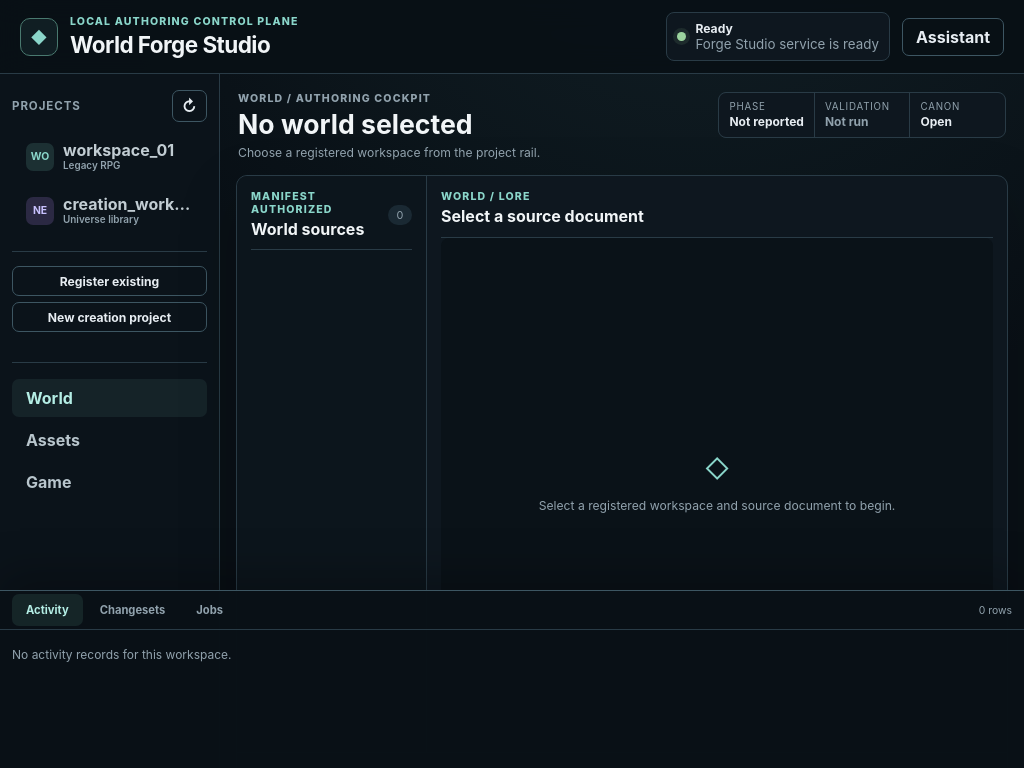
Studio World authoring cockpit › routes a registered generic creation workspace without invoking legacy World APIs
Click the button "NE creation_workspace Universe library": (110, 211) [12,186,207,235]
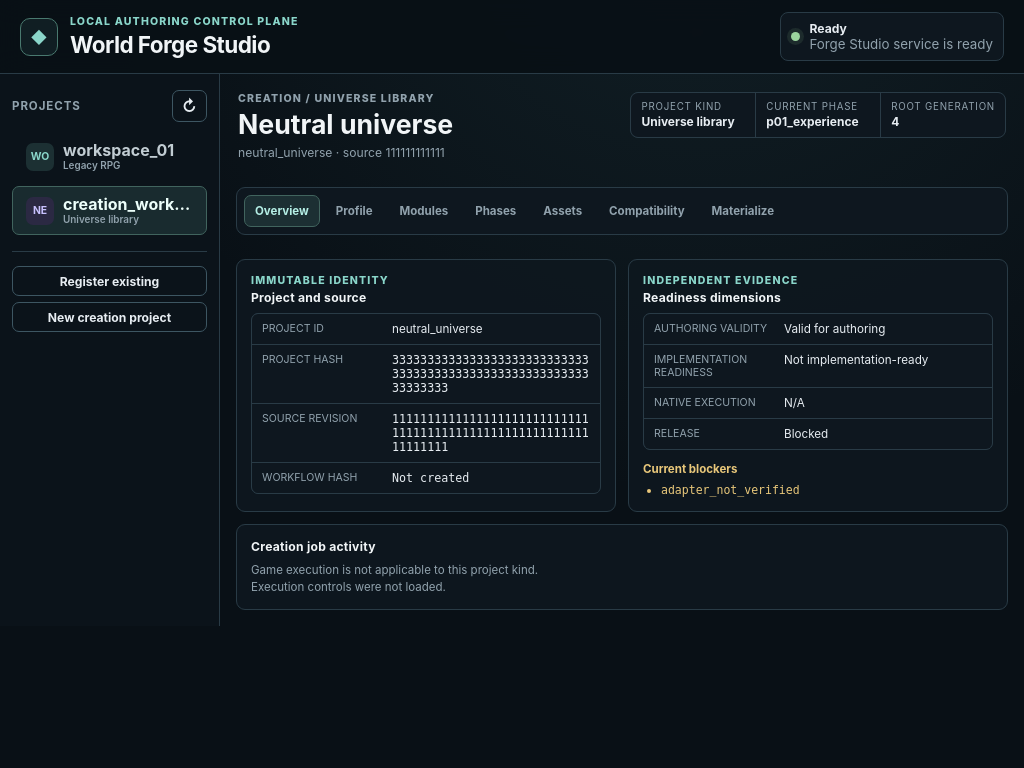
expect the heading "Neutral universe" is shown: met, box [238,108,453,140]
expect the text "Valid for authoring" is shown: met, box [784,322,885,336]
expect the text "Not implementation-ready" is shown: met, box [784,353,928,367]
